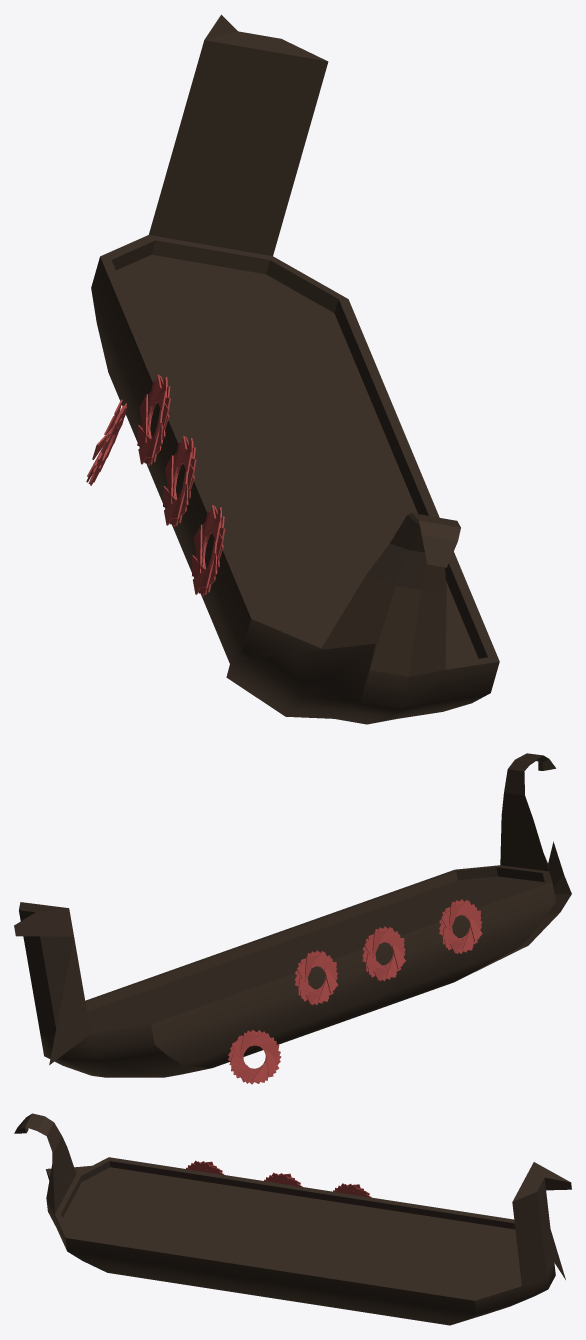
File: Viking_Boat.FBX
3 views of the same model, one above another, from view 1: azimuth 30°, elevation 25°; view 2: azimuth 150°, elevation 25°; view 3: azimuth 270°, elevation 25° (orthographic). The views are drawn at different scales.
Visible parts, largest first — view 1: Box002; view 2: Box002; view 3: Box002.
Boxes of the visible parts, x1,y1,x2,y2 form: Box002: [86, 14, 499, 724]; Box002: [14, 753, 571, 1084]; Box002: [14, 1113, 571, 1325].
Size of the model in its own units: 662 by 421 by 1282.
